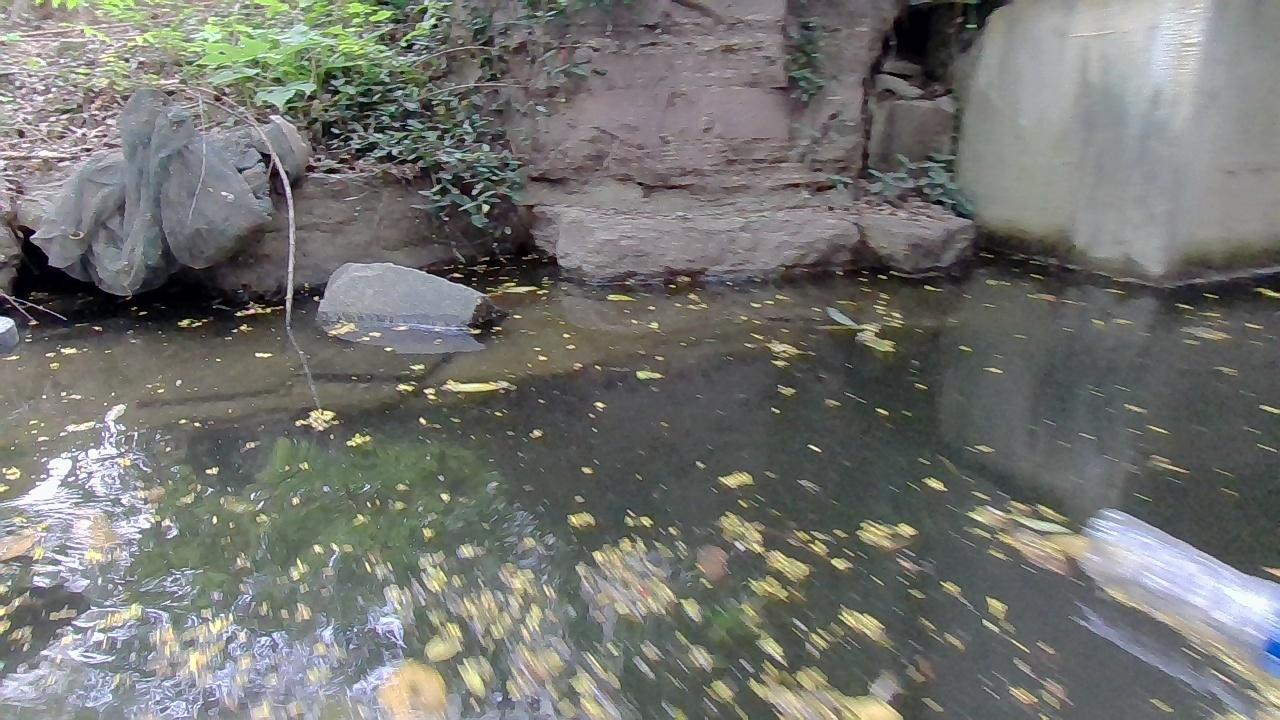bottle: (1074, 506, 1279, 665)
